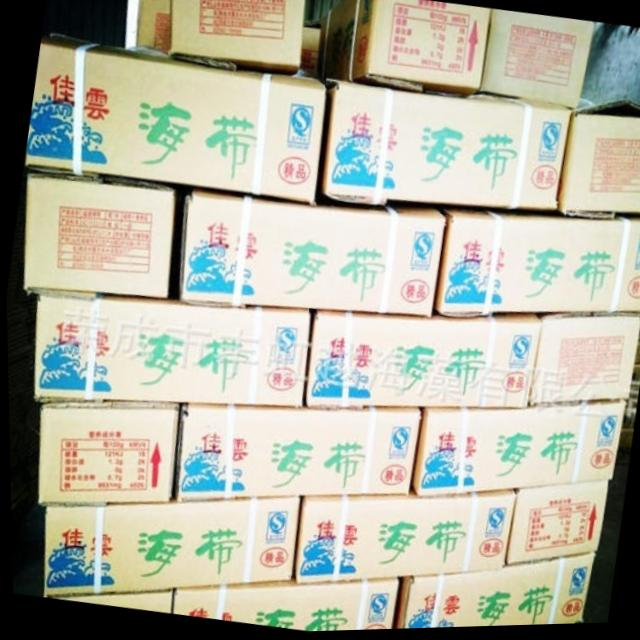box: (25, 35, 325, 207), (180, 190, 444, 318), (31, 292, 310, 410), (317, 86, 569, 215), (43, 499, 298, 595), (304, 314, 541, 412), (176, 409, 421, 500), (434, 212, 640, 317), (292, 491, 516, 583), (410, 404, 627, 494), (24, 173, 171, 300), (315, 0, 491, 103), (393, 556, 592, 631), (36, 405, 176, 506), (168, 581, 395, 633), (481, 12, 594, 113), (529, 317, 640, 408), (558, 104, 640, 216), (171, 0, 306, 67), (506, 487, 606, 568)
